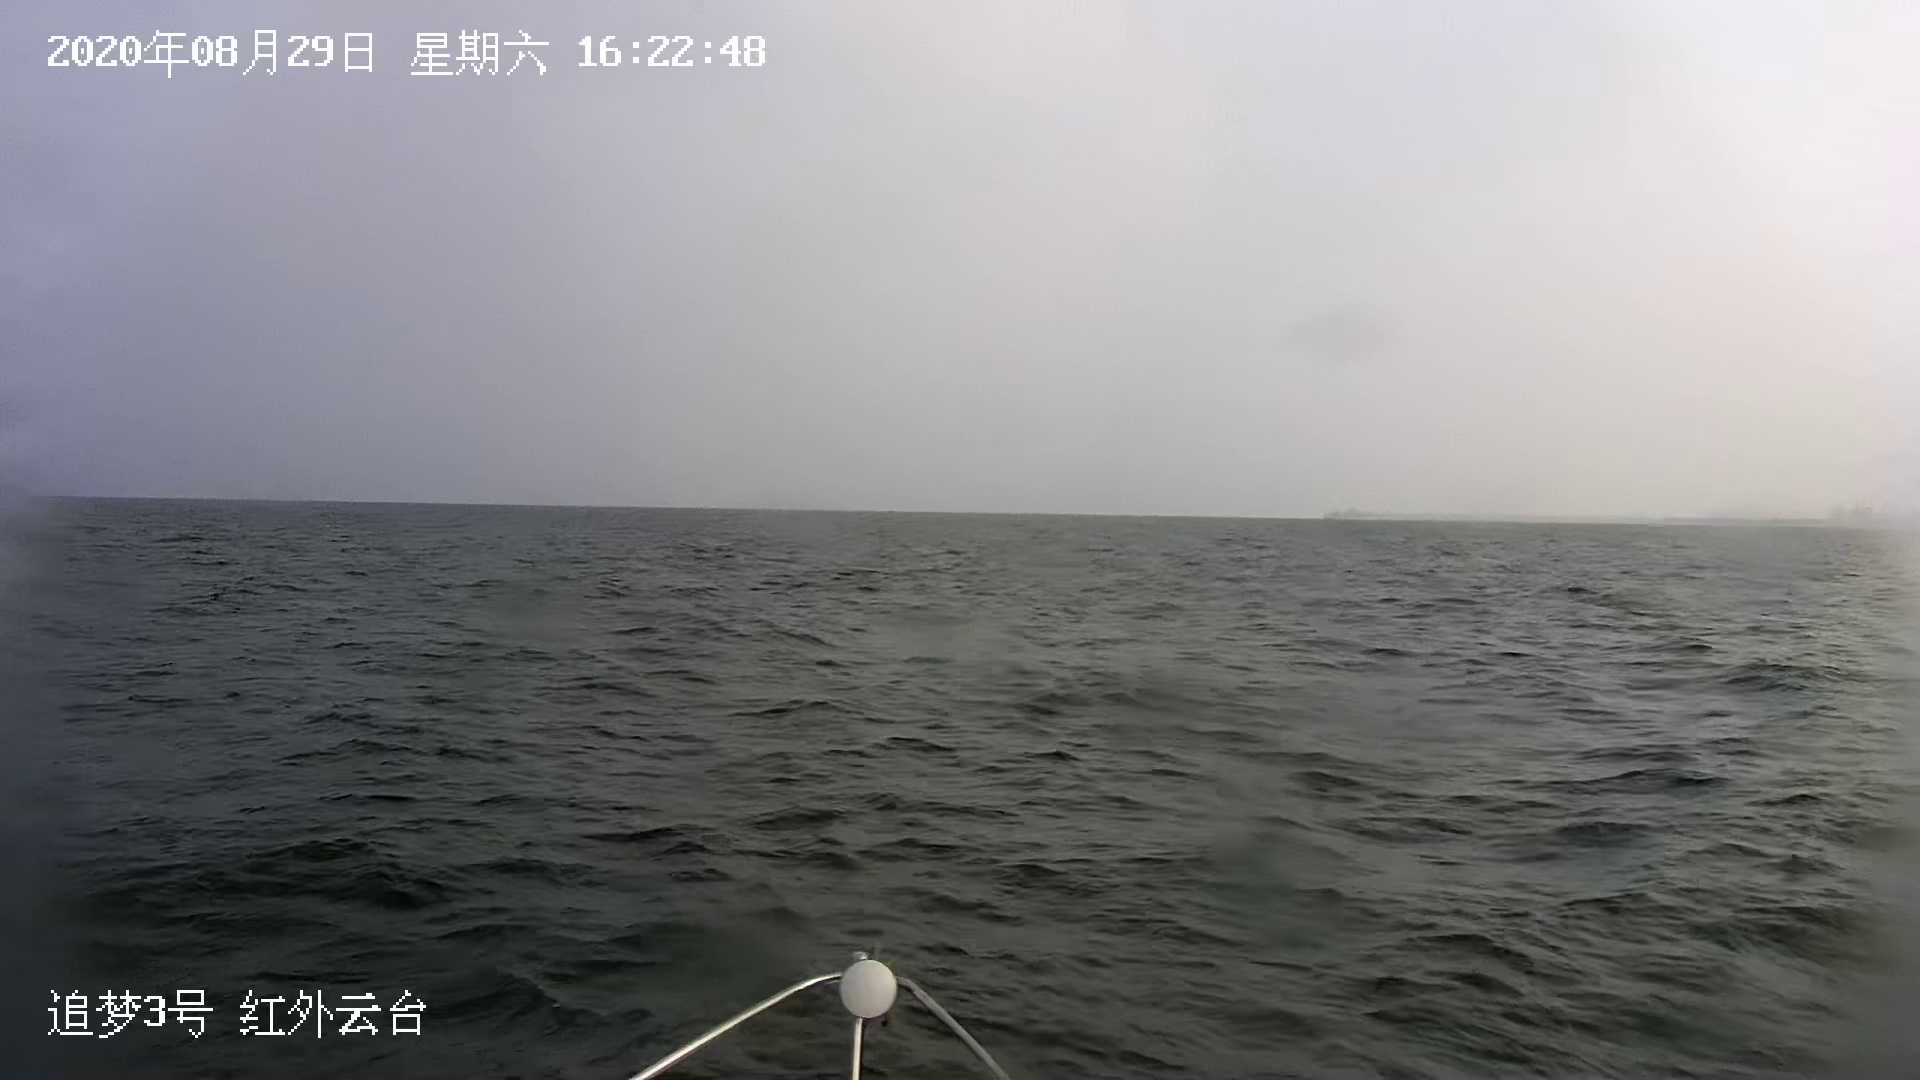coast: (1307, 502, 1911, 524)
